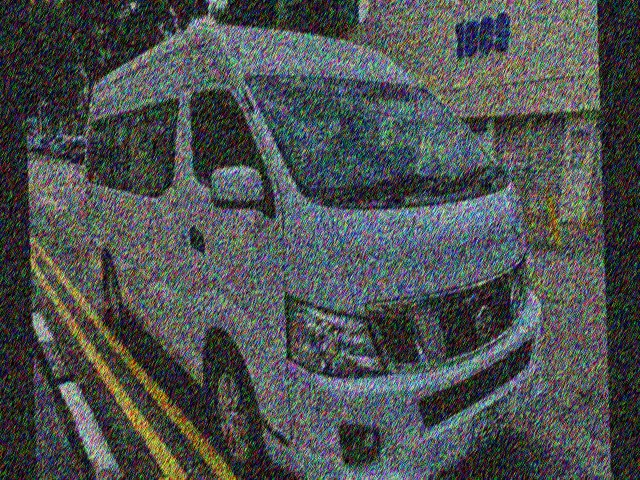van: (81, 12, 545, 480)
